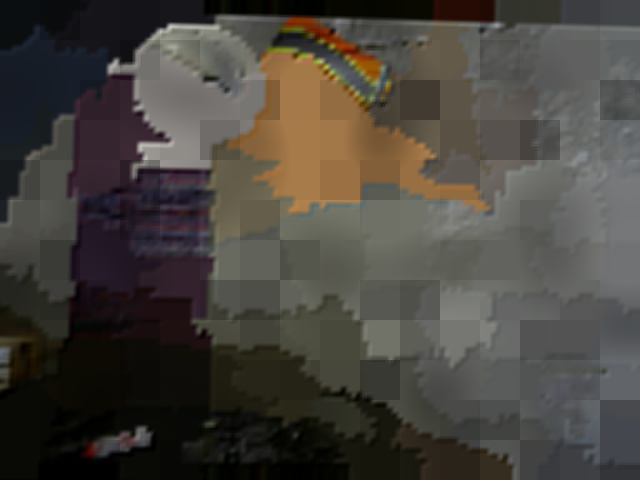three: (183, 77, 232, 117)
